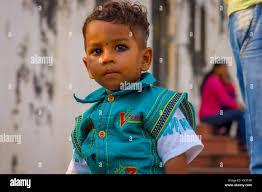Human: (55, 4, 201, 182)
